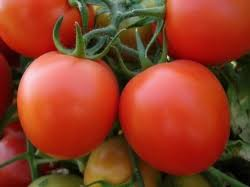tomato: (118, 61, 230, 176), (17, 48, 116, 157)
